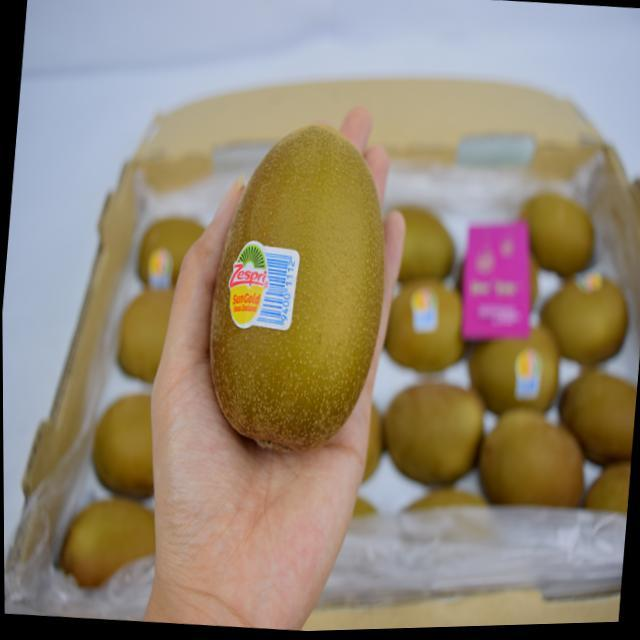kiwi: (199, 115, 399, 461), (512, 188, 603, 282), (382, 280, 469, 371), (380, 199, 461, 284), (72, 489, 140, 588), (135, 205, 207, 284), (90, 427, 158, 468), (503, 441, 552, 479), (574, 282, 596, 365), (412, 410, 450, 457)
